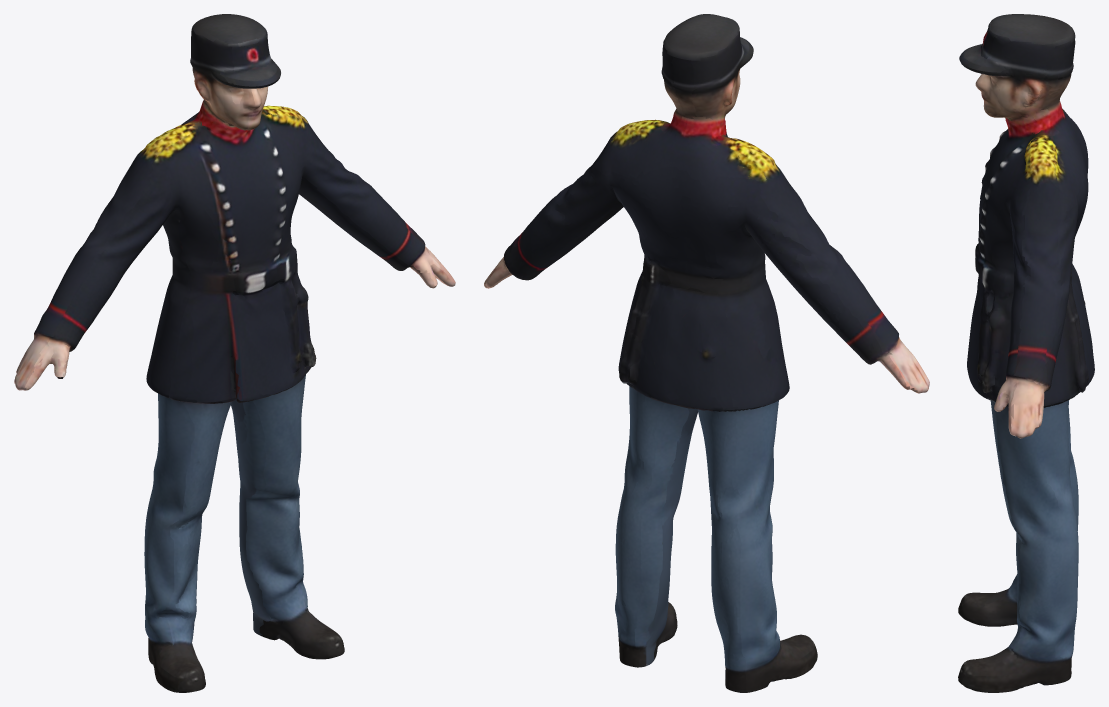
Rendered from DK_Officer_1864_v1.glb.
The picture shows the model from 3 angles, left to right: view 1: azimuth 30°, elevation 25°; view 2: azimuth 150°, elevation 25°; view 3: azimuth 270°, elevation 25°; orthographic projection.
Parts seen in each view (by area): view 1: tmpy1wqk3j5.ply; view 2: tmpy1wqk3j5.ply; view 3: tmpy1wqk3j5.ply.
Boxes of the visible parts, x1,y1,x2,y2 form: tmpy1wqk3j5.ply: (14, 14, 455, 692); tmpy1wqk3j5.ply: (484, 14, 929, 692); tmpy1wqk3j5.ply: (958, 14, 1094, 692).
Size of the model in its own units: 1.44 by 1.99 by 0.3917.
Materials: 1 (1 with a texture image).
